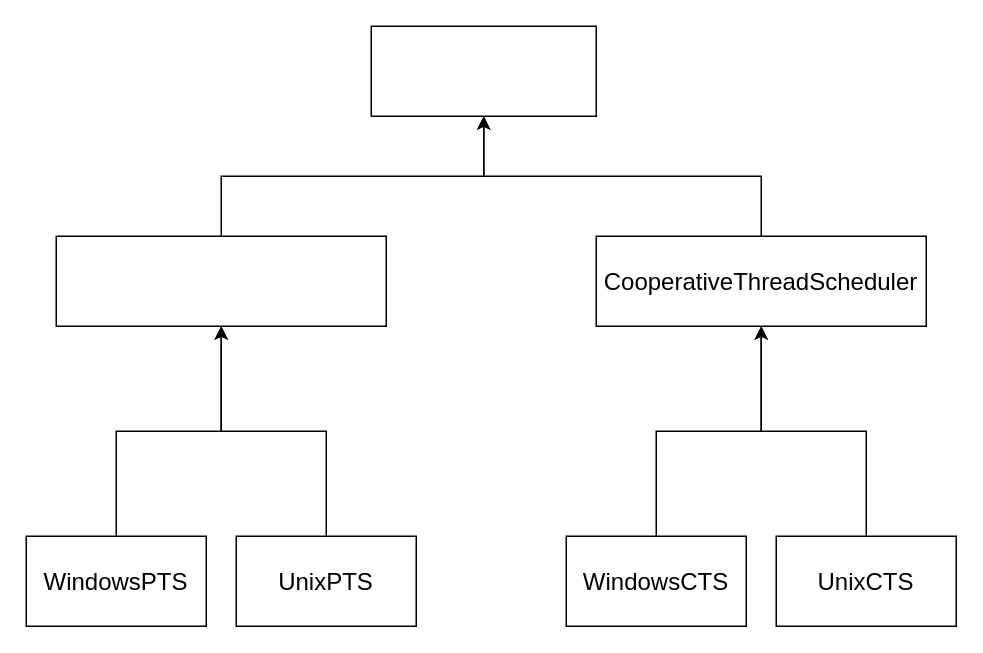
This 983x653 diagram has some shape labels left out. Here are the shapes that lost their labels. From the top down, the centre of each, then its label:
point 483,70: ThreadScheduler
point 220,280: PreemptiveThreadScheduler
